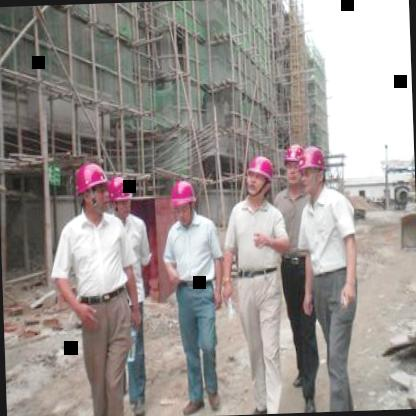helmet: (74, 163, 111, 220), (242, 150, 277, 204), (294, 145, 328, 196), (106, 175, 134, 223), (168, 180, 198, 224), (283, 142, 305, 188)
